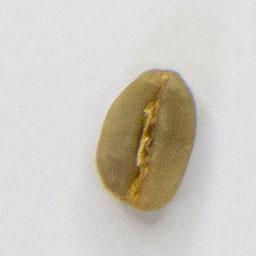longberry: (91, 65, 201, 215)
